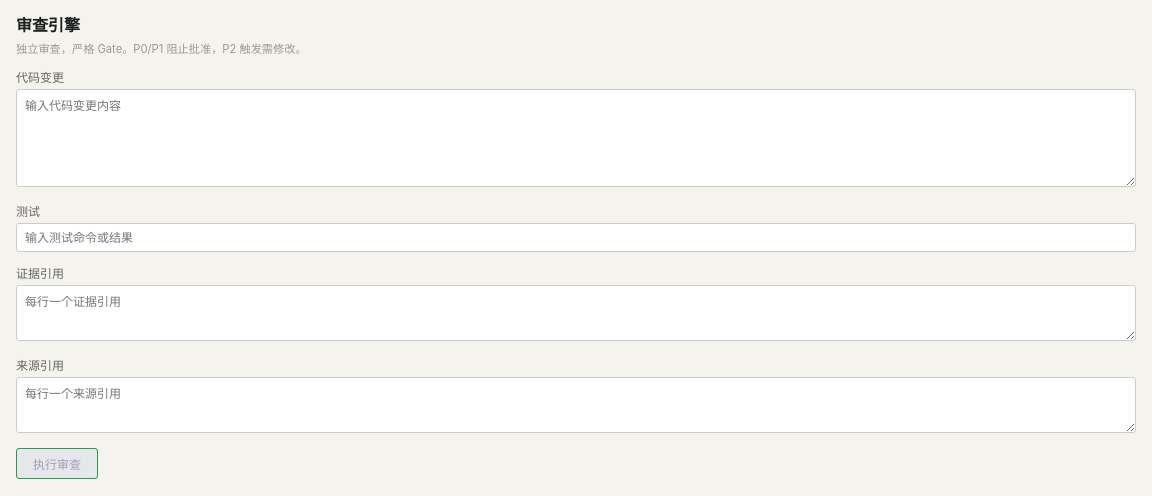
Test: ReviewerPanel › reviews code with P2 finding and shows changes_requested
Type "code" into the text box with placeholder "输入代码变更内容" at (576, 138), box x1=16 y1=89 x2=1136 y2=187
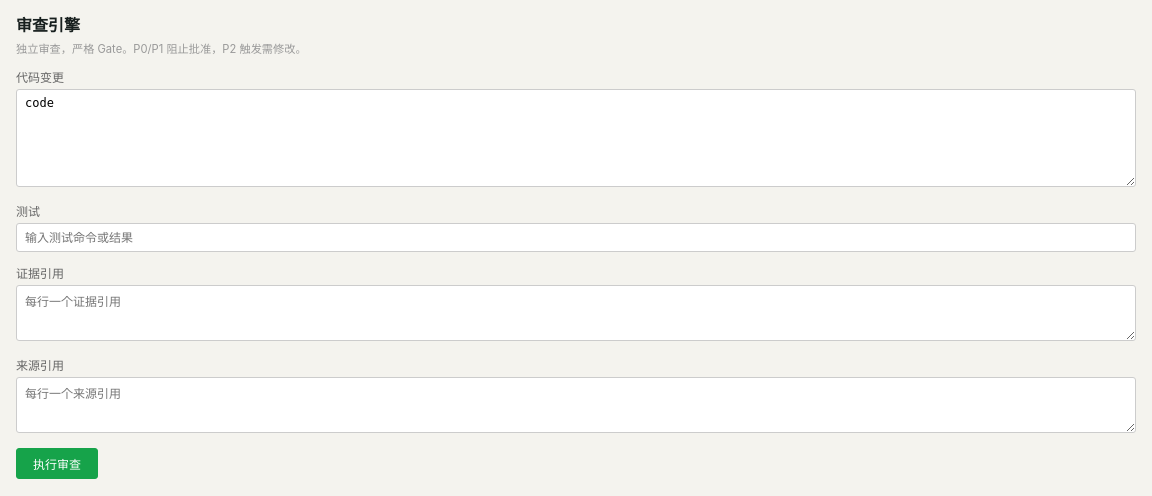
Click the button "执行审查" at (57, 464), box x1=16 y1=448 x2=98 y2=479
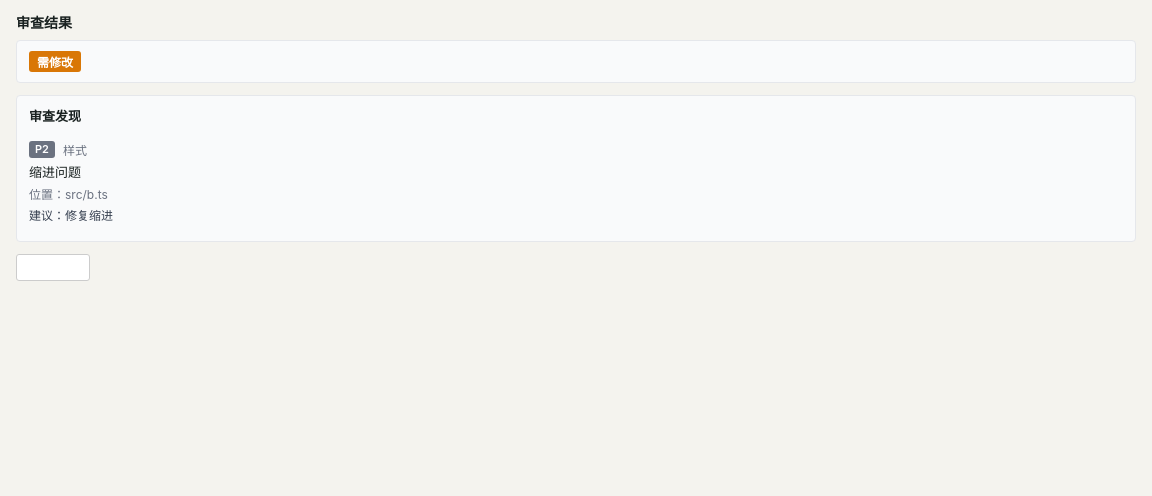
Expected: the text "需修改" is shown, x1=29 y1=51 x2=81 y2=72
Now the heading "审查结果" is shown, box x1=16 y1=14 x2=72 y2=31
Now the text "缩进问题" is shown, box x1=29 y1=164 x2=81 y2=180
